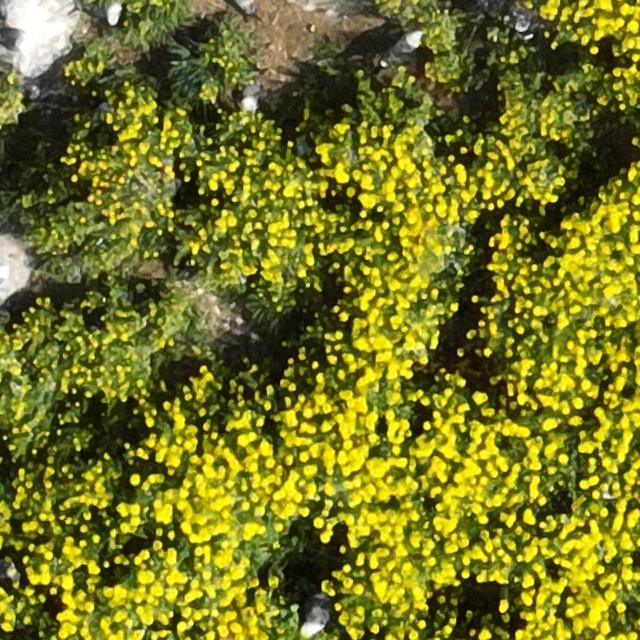umineko: (383, 33, 422, 62), (302, 602, 330, 636), (0, 27, 36, 53), (240, 81, 259, 111), (108, 2, 123, 26)
